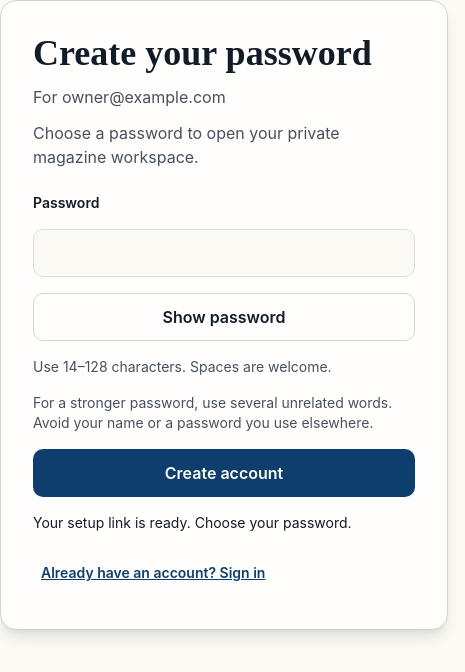
Scenario: owner setup form › keeps the password on connection failure so the owner can retry
Type "four unrelated words here" into the password field labelled "Password". click: (224, 253)
box: [33, 229, 415, 277]
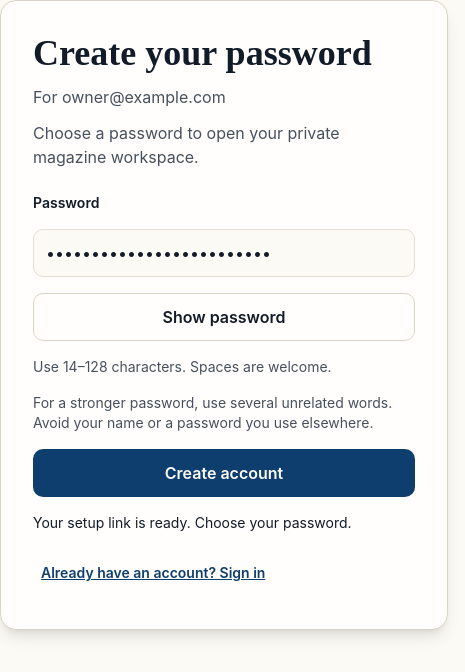
Submit the form labelled "Password", box [33, 193, 415, 497]
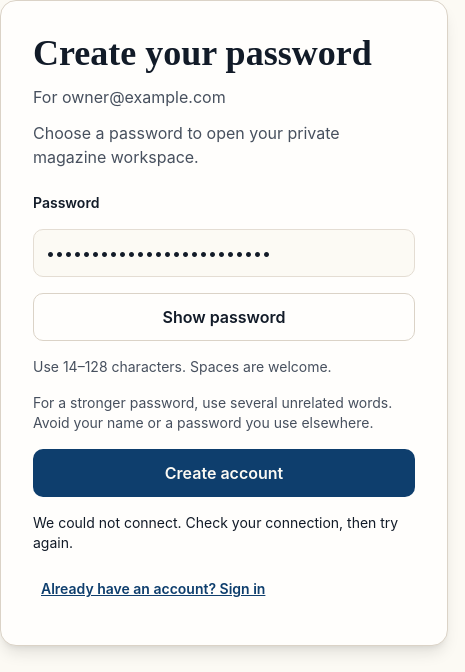
Expected: the button "Create account" is enabled, [33, 449, 415, 497]
Result: the message shows "Check your connection" at [33, 514, 398, 551]
